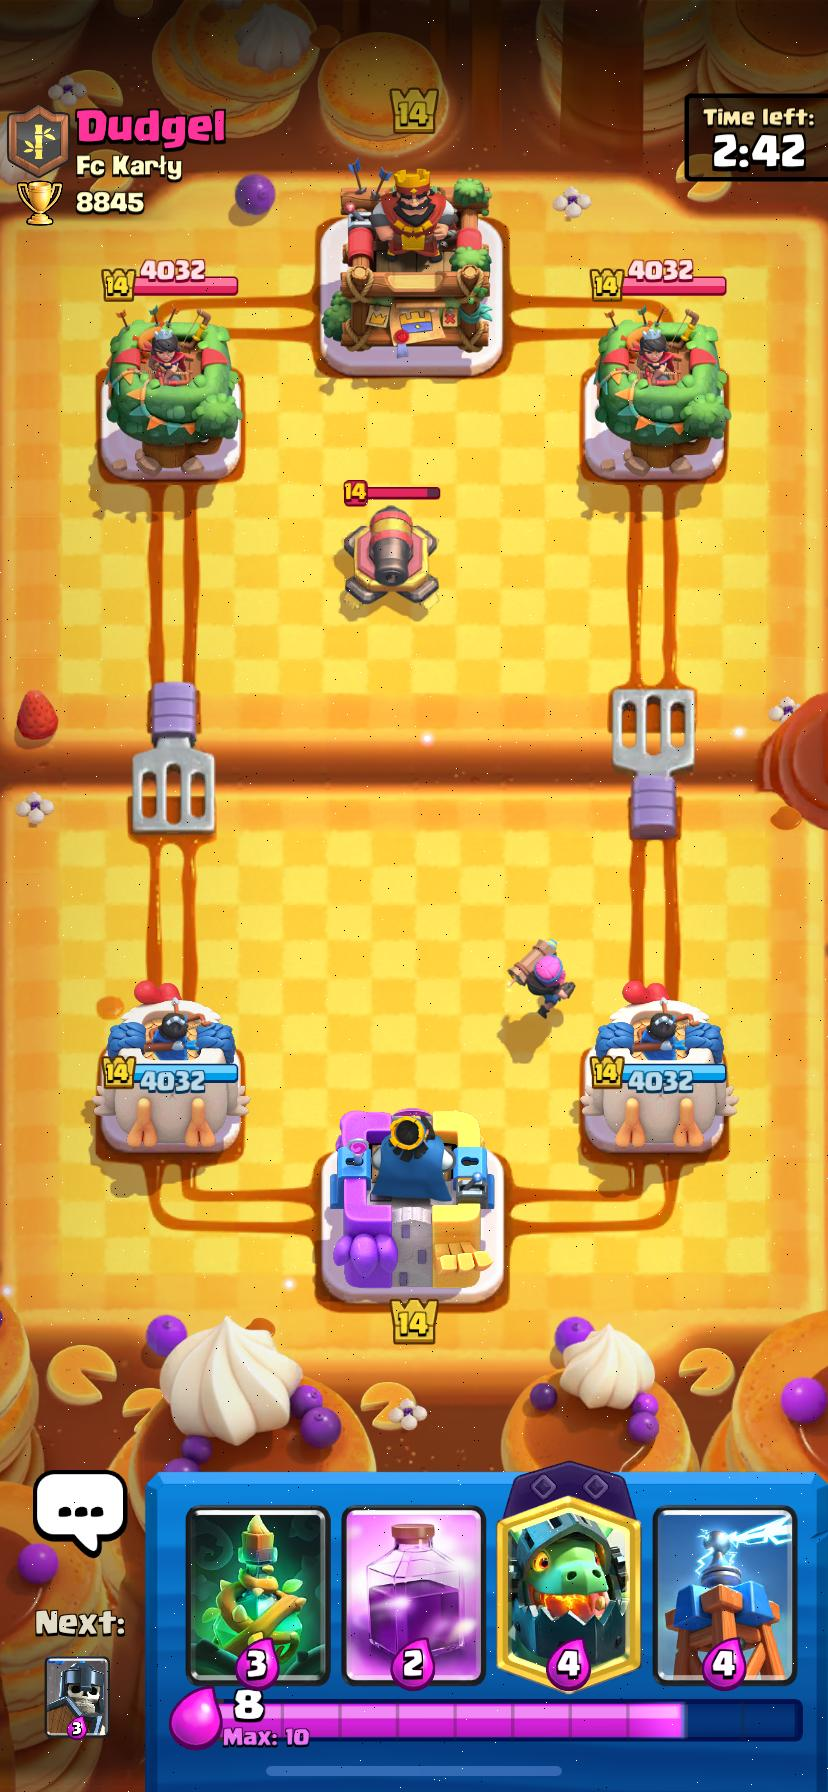EKingTower: (323, 170, 491, 351)
Ecan: (344, 503, 437, 606)
EnemyPrincessTower: (595, 311, 729, 473), (108, 310, 241, 466)
OFirecrack: (509, 939, 574, 1017)
OwnKingTower: (331, 1109, 494, 1299)
OwnPrincessTower: (580, 982, 735, 1151), (93, 983, 248, 1151)
